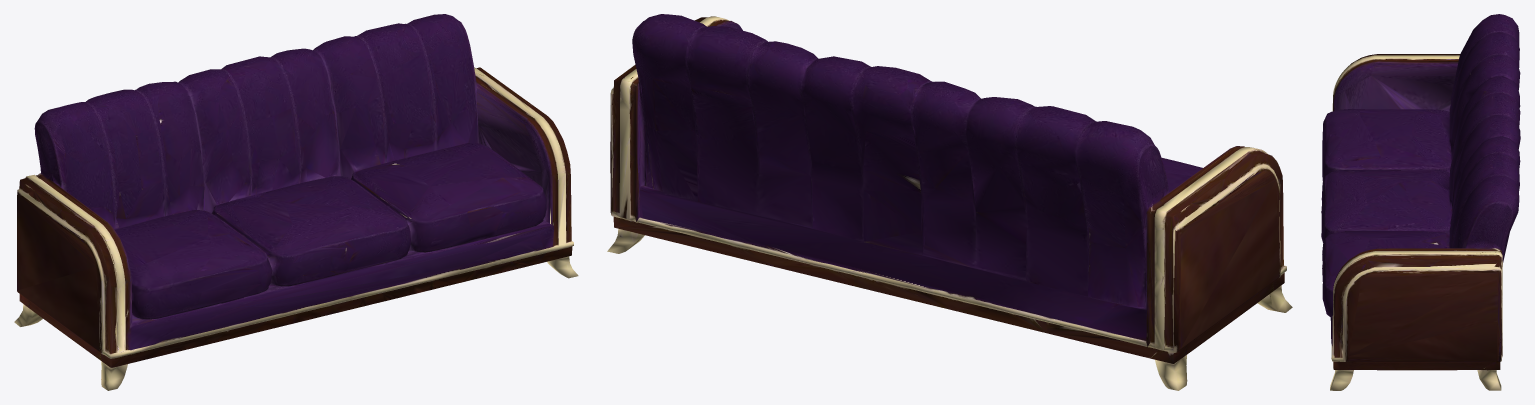
File: couch.glb
3 renders of one model, left to right at view 1: azimuth 30°, elevation 25°; view 2: azimuth 150°, elevation 25°; view 3: azimuth 270°, elevation 25°, orthographic. The views are drawn at different scales.
Parts seen in each view (by area): view 1: Mesh_0; view 2: Mesh_0; view 3: Mesh_0.
Part boxes in pixels (x1,y1,x2,y2): Mesh_0: (14, 14, 578, 390); Mesh_0: (607, 14, 1292, 390); Mesh_0: (1321, 14, 1520, 390).
Bounding box in the file's own units: 2.17 × 0.9 × 0.8704.
1 material, 1 textured.
